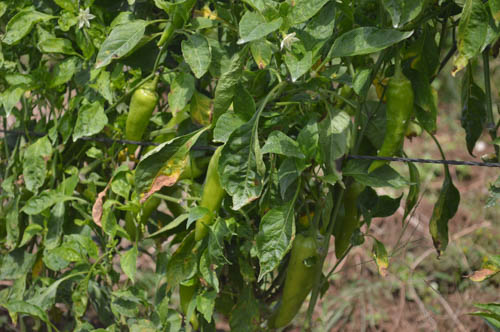ChiliPepper: (371, 79, 418, 170), (276, 234, 318, 325), (197, 148, 231, 243), (331, 179, 365, 257), (119, 90, 157, 151)
